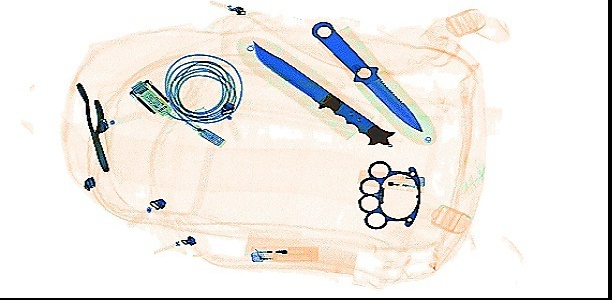knife: (248, 37, 398, 149), (308, 19, 424, 133)
lighter: (354, 167, 427, 194), (248, 241, 319, 265)
slingshot: (72, 78, 111, 173)
